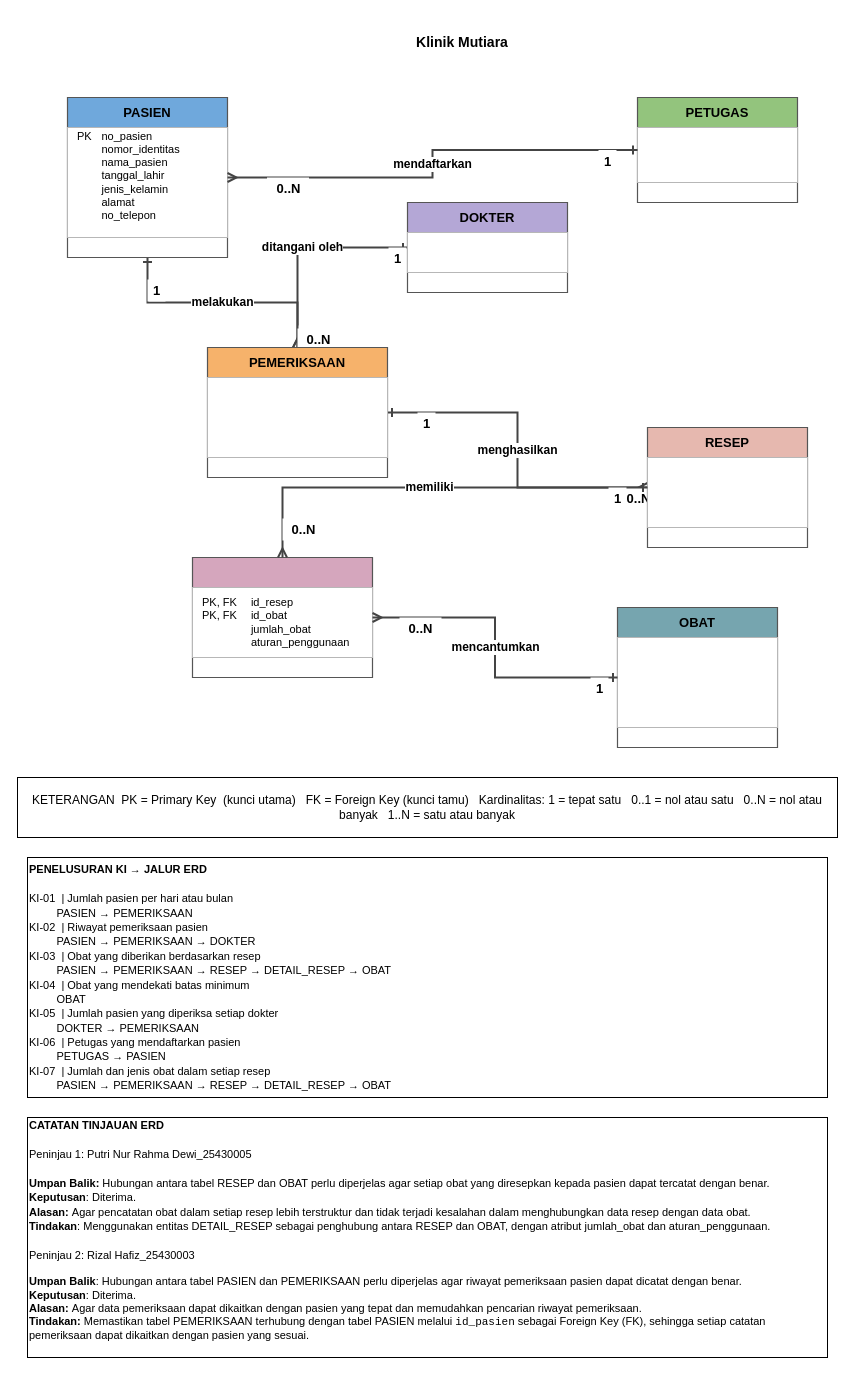
The diagram is 855 pixels wide and 1375 high, and some of its shapes have lost their labels. Each missing label, with the box of its shape:
DETAIL_RESEP: (191, 556, 373, 678)
PK id_dokter nama_dokter: (406, 232, 568, 272)
PK id_obat nama_obat stok satuan batas_minimum_stok: (616, 636, 778, 728)
PK id_pemeriksaan FK id_pasien FK id_dokter tanggal_pemeriksaan diagnosis: (206, 376, 388, 458)
PK id_petugas nama_petugas jabatan: (636, 126, 798, 182)
PK id_resep FK id_pemeriksaan tanggal resep: (646, 456, 808, 528)
